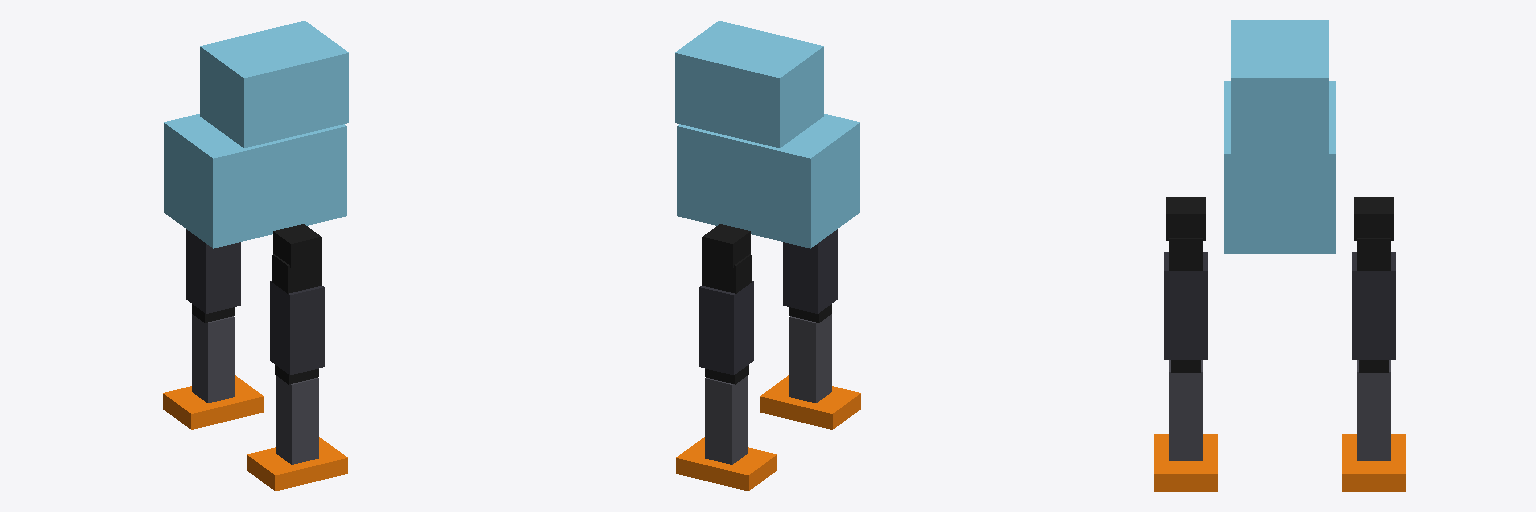
robot.urdf — microduck_minimal:
<?xml version="1.0"?>
<robot name="microduck_minimal">

  <!-- ==================== MATERIALS ==================== -->
  <material name="sky_blue">
    <color rgba="0.55 0.82 0.92 1.0"/>
  </material>
  <material name="dark_gray">
    <color rgba="0.25 0.25 0.28 1.0"/>
  </material>
  <material name="medium_gray">
    <color rgba="0.35 0.35 0.38 1.0"/>
  </material>
  <material name="black_servo">
    <color rgba="0.15 0.15 0.15 1.0"/>
  </material>
  <material name="orange">
    <color rgba="1.0 0.55 0.1 1.0"/>
  </material>
  <material name="yellow">
    <color rgba="0.95 0.75 0.1 1.0"/>
  </material>

  <!-- ==================== BASE LINK: TORSO ==================== -->
  <link name="torso">
    <inertial>
      <origin xyz="0 0 0" rpy="0 0 0"/>
      <!-- 100g: battery + board + shell. Box inertia approx -->
      <mass value="0.100"/>
      <inertia ixx="0.000150" ixy="0" ixz="0" iyy="0.000250" iyz="0" izz="0.000200"/>
    </inertial>
    <visual>
      <origin xyz="0 0 0" rpy="0 0 0"/>
      <geometry>
        <box size="0.070 0.045 0.045"/>
      </geometry>
      <material name="sky_blue"/>
    </visual>
    <collision>
      <origin xyz="0 0 0" rpy="0 0 0"/>
      <geometry>
        <box size="0.070 0.045 0.045"/>
      </geometry>
    </collision>
  </link>

  <!-- ==================== HEAD (fixed to torso) ==================== -->
  <link name="head">
    <inertial>
      <origin xyz="0 0 0" rpy="0 0 0"/>
      <mass value="0.030"/>
      <inertia ixx="0.000030" ixy="0" ixz="0" iyy="0.000050" iyz="0" izz="0.000045"/>
    </inertial>
    <visual>
      <origin xyz="0 0 0" rpy="0 0 0"/>
      <geometry>
        <box size="0.055 0.040 0.035"/>
      </geometry>
      <material name="sky_blue"/>
    </visual>
    <collision>
      <origin xyz="0 0 0" rpy="0 0 0"/>
      <geometry>
        <box size="0.055 0.040 0.035"/>
      </geometry>
    </collision>
  </link>

  <joint name="head_joint" type="fixed">
    <parent link="torso"/>
    <child link="head"/>
    <origin xyz="0.010 0 0.040" rpy="0 0 0"/>
  </joint>

  <!-- ==================== LEFT LEG ==================== -->

  <!-- Left Hip Roll link (connects torso to hip pitch) -->
  <link name="l_hip_roll_link">
    <inertial>
      <origin xyz="0 0 0" rpy="0 0 0"/>
      <mass value="0.055"/>
      <inertia ixx="0.000010" ixy="0" ixz="0" iyy="0.000010" iyz="0" izz="0.000015"/>
    </inertial>
    <visual>
      <origin xyz="0 0 0" rpy="0 0 0"/>
      <geometry>
        <box size="0.016 0.016 0.012"/>
      </geometry>
      <material name="black_servo"/>
    </visual>
    <collision>
      <origin xyz="0 0 0" rpy="0 0 0"/>
      <geometry>
        <box size="0.016 0.016 0.012"/>
      </geometry>
    </collision>
  </link>

  <!-- LEFT HIP ROLL JOINT: X-axis (lateral balance) -->
  <joint name="l_hip_roll" type="revolute">
    <parent link="torso"/>
    <child link="l_hip_roll_link"/>
    <origin xyz="0 0.038 -0.023" rpy="0 0 0"/>
    <axis xyz="1 0 0"/>
    <limit lower="-0.52" upper="0.52" effort="1.2" velocity="6.0"/>
    <!-- ±30°, 1.2 Nm torque (metal servo) -->
    <dynamics damping="0.05" friction="0.02"/>
  </joint>

  <!-- Left Hip Pitch link -->
  <link name="l_hip_pitch_link">
    <inertial>
      <origin xyz="0 0 0" rpy="0 0 0"/>
      <mass value="0.055"/>
      <inertia ixx="0.000010" ixy="0" ixz="0" iyy="0.000012" iyz="0" izz="0.000015"/>
    </inertial>
    <visual>
      <origin xyz="0 0 0" rpy="0 0 0"/>
      <geometry>
        <box size="0.018 0.014 0.014"/>
      </geometry>
      <material name="black_servo"/>
    </visual>
    <collision>
      <origin xyz="0 0 0" rpy="0 0 0"/>
      <geometry>
        <box size="0.018 0.014 0.014"/>
      </geometry>
    </collision>
  </link>

  <!-- LEFT HIP PITCH JOINT: Y-axis (forward/back swing) -->
  <joint name="l_hip_pitch" type="revolute">
    <parent link="l_hip_roll_link"/>
    <child link="l_hip_pitch_link"/>
    <origin xyz="0 0 -0.012" rpy="0 0 0"/>
    <axis xyz="0 1 0"/>
    <limit lower="-1.05" upper="1.05" effort="1.2" velocity="6.0"/>
    <!-- ±60° -->
    <dynamics damping="0.05" friction="0.02"/>
  </joint>

  <!-- Left Thigh link -->
  <link name="l_thigh">
    <inertial>
      <origin xyz="0 0 -0.020" rpy="0 0 0"/>
      <mass value="0.015"/>
      <inertia ixx="0.000005" ixy="0" ixz="0" iyy="0.000005" iyz="0" izz="0.000003"/>
    </inertial>
    <visual>
      <origin xyz="0 0 -0.020" rpy="0 0 0"/>
      <geometry>
        <box size="0.018 0.018 0.040"/>
      </geometry>
      <material name="dark_gray"/>
    </visual>
    <collision>
      <origin xyz="0 0 -0.020" rpy="0 0 0"/>
      <geometry>
        <box size="0.018 0.018 0.040"/>
      </geometry>
    </collision>
  </link>

  <!-- Thigh is rigidly attached to hip pitch servo output -->
  <joint name="l_thigh_joint" type="fixed">
    <parent link="l_hip_pitch_link"/>
    <child link="l_thigh"/>
    <origin xyz="0 0 -0.007" rpy="0 0 0"/>
  </joint>

  <!-- Left Knee link -->
  <link name="l_knee_link">
    <inertial>
      <origin xyz="0 0 0" rpy="0 0 0"/>
      <mass value="0.025"/>
      <inertia ixx="0.000004" ixy="0" ixz="0" iyy="0.000004" iyz="0" izz="0.000006"/>
    </inertial>
    <visual>
      <origin xyz="0 0 0" rpy="0 0 0"/>
      <geometry>
        <box size="0.016 0.012 0.012"/>
      </geometry>
      <material name="black_servo"/>
    </visual>
    <collision>
      <origin xyz="0 0 0" rpy="0 0 0"/>
      <geometry>
        <box size="0.016 0.012 0.012"/>
      </geometry>
    </collision>
  </link>

  <!-- LEFT KNEE JOINT: Y-axis -->
  <joint name="l_knee" type="revolute">
    <parent link="l_thigh"/>
    <child link="l_knee_link"/>
    <origin xyz="0 0 -0.040" rpy="0 0 0"/>
    <axis xyz="0 1 0"/>
    <limit lower="-1.57" upper="0.0" effort="0.8" velocity="8.0"/>
    <!-- 0 to -90°, smaller servo -->
    <dynamics damping="0.03" friction="0.01"/>
  </joint>

  <!-- Left Shin link -->
  <link name="l_shin">
    <inertial>
      <origin xyz="0 0 -0.020" rpy="0 0 0"/>
      <mass value="0.015"/>
      <inertia ixx="0.000004" ixy="0" ixz="0" iyy="0.000004" iyz="0" izz="0.000002"/>
    </inertial>
    <visual>
      <origin xyz="0 0 -0.020" rpy="0 0 0"/>
      <geometry>
        <box size="0.014 0.014 0.040"/>
      </geometry>
      <material name="medium_gray"/>
    </visual>
    <collision>
      <origin xyz="0 0 -0.020" rpy="0 0 0"/>
      <geometry>
        <box size="0.014 0.014 0.040"/>
      </geometry>
    </collision>
  </link>

  <joint name="l_shin_joint" type="fixed">
    <parent link="l_knee_link"/>
    <child link="l_shin"/>
    <origin xyz="0 0 -0.006" rpy="0 0 0"/>
  </joint>

  <!-- Left Foot link -->
  <link name="l_foot">
    <inertial>
      <origin xyz="0 0 -0.004" rpy="0 0 0"/>
      <mass value="0.020"/>
      <inertia ixx="0.000008" ixy="0" ixz="0" iyy="0.000015" iyz="0" izz="0.000020"/>
    </inertial>
    <visual>
      <origin xyz="0 0 -0.004" rpy="0 0 0"/>
      <geometry>
        <box size="0.038 0.026 0.008"/>
      </geometry>
      <material name="orange"/>
    </visual>
    <collision>
      <origin xyz="0 0 -0.004" rpy="0 0 0"/>
      <geometry>
        <box size="0.038 0.026 0.008"/>
      </geometry>
    </collision>
    <contact_coefficients mu="0.8" kp="100000" kd="100"/>
  </link>

  <joint name="l_foot_joint" type="fixed">
    <parent link="l_shin"/>
    <child link="l_foot"/>
    <origin xyz="0 0 -0.040" rpy="0 0 0"/>
  </joint>

  <!-- ==================== RIGHT LEG ==================== -->

  <!-- Right Hip Roll link -->
  <link name="r_hip_roll_link">
    <inertial>
      <origin xyz="0 0 0" rpy="0 0 0"/>
      <mass value="0.055"/>
      <inertia ixx="0.000010" ixy="0" ixz="0" iyy="0.000010" iyz="0" izz="0.000015"/>
    </inertial>
    <visual>
      <origin xyz="0 0 0" rpy="0 0 0"/>
      <geometry>
        <box size="0.016 0.016 0.012"/>
      </geometry>
      <material name="black_servo"/>
    </visual>
    <collision>
      <origin xyz="0 0 0" rpy="0 0 0"/>
      <geometry>
        <box size="0.016 0.016 0.012"/>
      </geometry>
    </collision>
  </link>

  <!-- RIGHT HIP ROLL JOINT -->
  <joint name="r_hip_roll" type="revolute">
    <parent link="torso"/>
    <child link="r_hip_roll_link"/>
    <origin xyz="0 -0.038 -0.023" rpy="0 0 0"/>
    <axis xyz="1 0 0"/>
    <limit lower="-0.52" upper="0.52" effort="1.2" velocity="6.0"/>
    <dynamics damping="0.05" friction="0.02"/>
  </joint>

  <!-- Right Hip Pitch link -->
  <link name="r_hip_pitch_link">
    <inertial>
      <origin xyz="0 0 0" rpy="0 0 0"/>
      <mass value="0.055"/>
      <inertia ixx="0.000010" ixy="0" ixz="0" iyy="0.000012" iyz="0" izz="0.000015"/>
    </inertial>
    <visual>
      <origin xyz="0 0 0" rpy="0 0 0"/>
      <geometry>
        <box size="0.018 0.014 0.014"/>
      </geometry>
      <material name="black_servo"/>
    </visual>
    <collision>
      <origin xyz="0 0 0" rpy="0 0 0"/>
      <geometry>
        <box size="0.018 0.014 0.014"/>
      </geometry>
    </collision>
  </link>

  <!-- RIGHT HIP PITCH JOINT -->
  <joint name="r_hip_pitch" type="revolute">
    <parent link="r_hip_roll_link"/>
    <child link="r_hip_pitch_link"/>
    <origin xyz="0 0 -0.012" rpy="0 0 0"/>
    <axis xyz="0 1 0"/>
    <limit lower="-1.05" upper="1.05" effort="1.2" velocity="6.0"/>
    <dynamics damping="0.05" friction="0.02"/>
  </joint>

  <!-- Right Thigh link -->
  <link name="r_thigh">
    <inertial>
      <origin xyz="0 0 -0.020" rpy="0 0 0"/>
      <mass value="0.015"/>
      <inertia ixx="0.000005" ixy="0" ixz="0" iyy="0.000005" iyz="0" izz="0.000003"/>
    </inertial>
    <visual>
      <origin xyz="0 0 -0.020" rpy="0 0 0"/>
      <geometry>
        <box size="0.018 0.018 0.040"/>
      </geometry>
      <material name="dark_gray"/>
    </visual>
    <collision>
      <origin xyz="0 0 -0.020" rpy="0 0 0"/>
      <geometry>
        <box size="0.018 0.018 0.040"/>
      </geometry>
    </collision>
  </link>

  <joint name="r_thigh_joint" type="fixed">
    <parent link="r_hip_pitch_link"/>
    <child link="r_thigh"/>
    <origin xyz="0 0 -0.007" rpy="0 0 0"/>
  </joint>

  <!-- Right Knee link -->
  <link name="r_knee_link">
    <inertial>
      <origin xyz="0 0 0" rpy="0 0 0"/>
      <mass value="0.025"/>
      <inertia ixx="0.000004" ixy="0" ixz="0" iyy="0.000004" iyz="0" izz="0.000006"/>
    </inertial>
    <visual>
      <origin xyz="0 0 0" rpy="0 0 0"/>
      <geometry>
        <box size="0.016 0.012 0.012"/>
      </geometry>
      <material name="black_servo"/>
    </visual>
    <collision>
      <origin xyz="0 0 0" rpy="0 0 0"/>
      <geometry>
        <box size="0.016 0.012 0.012"/>
      </geometry>
    </collision>
  </link>

  <!-- RIGHT KNEE JOINT -->
  <joint name="r_knee" type="revolute">
    <parent link="r_thigh"/>
    <child link="r_knee_link"/>
    <origin xyz="0 0 -0.040" rpy="0 0 0"/>
    <axis xyz="0 1 0"/>
    <limit lower="-1.57" upper="0.0" effort="0.8" velocity="8.0"/>
    <dynamics damping="0.03" friction="0.01"/>
  </joint>

  <!-- Right Shin link -->
  <link name="r_shin">
    <inertial>
      <origin xyz="0 0 -0.020" rpy="0 0 0"/>
      <mass value="0.015"/>
      <inertia ixx="0.000004" ixy="0" ixz="0" iyy="0.000004" iyz="0" izz="0.000002"/>
    </inertial>
    <visual>
      <origin xyz="0 0 -0.020" rpy="0 0 0"/>
      <geometry>
        <box size="0.014 0.014 0.040"/>
      </geometry>
      <material name="medium_gray"/>
    </visual>
    <collision>
      <origin xyz="0 0 -0.020" rpy="0 0 0"/>
      <geometry>
        <box size="0.014 0.014 0.040"/>
      </geometry>
    </collision>
  </link>

  <joint name="r_shin_joint" type="fixed">
    <parent link="r_knee_link"/>
    <child link="r_shin"/>
    <origin xyz="0 0 -0.006" rpy="0 0 0"/>
  </joint>

  <!-- Right Foot link -->
  <link name="r_foot">
    <inertial>
      <origin xyz="0 0 -0.004" rpy="0 0 0"/>
      <mass value="0.020"/>
      <inertia ixx="0.000008" ixy="0" ixz="0" iyy="0.000015" iyz="0" izz="0.000020"/>
    </inertial>
    <visual>
      <origin xyz="0 0 -0.004" rpy="0 0 0"/>
      <geometry>
        <box size="0.038 0.026 0.008"/>
      </geometry>
      <material name="orange"/>
    </visual>
    <collision>
      <origin xyz="0 0 -0.004" rpy="0 0 0"/>
      <geometry>
        <box size="0.038 0.026 0.008"/>
      </geometry>
    </collision>
    <contact_coefficients mu="0.8" kp="100000" kd="100"/>
  </link>

  <joint name="r_foot_joint" type="fixed">
    <parent link="r_shin"/>
    <child link="r_foot"/>
    <origin xyz="0 0 -0.040" rpy="0 0 0"/>
  </joint>

</robot>

--- Render facts (derived) ---
The picture shows the robot from 3 angles, left to right: view 1: azimuth 30°, elevation 25°; view 2: azimuth 150°, elevation 25°; view 3: azimuth 270°, elevation 25°; orthographic projection.
Robot: microduck_minimal — 14 links, 13 joints (6 revolute, 7 fixed); root link torso; default pose: every joint at zero.
Links seen in each view (by area): view 1: torso, head, r_thigh, l_thigh, l_shin, r_shin, l_foot, r_foot, r_hip_roll_link, r_hip_pitch_link; view 2: torso, head, l_thigh, r_thigh, l_shin, r_shin, r_foot, l_foot, l_hip_roll_link, l_hip_pitch_link; view 3: head, torso, l_thigh, r_thigh, l_shin, r_shin, l_foot, r_foot, l_hip_roll_link, r_hip_roll_link, l_hip_pitch_link, r_hip_pitch_link.
Boxes of the visible links, x1,y1,x2,y2 form: torso: (164, 114, 346, 248); head: (200, 21, 348, 147); r_thigh: (270, 281, 324, 374); l_thigh: (186, 229, 240, 313); l_shin: (192, 314, 234, 402); r_shin: (276, 376, 318, 464); l_foot: (163, 375, 263, 429); r_foot: (247, 437, 347, 490); r_hip_roll_link: (273, 224, 321, 267); r_hip_pitch_link: (272, 254, 321, 293); torso: (677, 114, 859, 248); head: (675, 21, 823, 147); l_thigh: (699, 281, 753, 374); r_thigh: (783, 229, 837, 313); l_shin: (705, 376, 747, 464); r_shin: (789, 314, 831, 402); r_foot: (760, 375, 860, 429); l_foot: (676, 437, 776, 490); l_hip_roll_link: (702, 224, 750, 267); l_hip_pitch_link: (702, 254, 751, 293); head: (1231, 20, 1328, 155); torso: (1224, 81, 1335, 253); l_thigh: (1352, 252, 1395, 359); r_thigh: (1164, 252, 1207, 359); l_shin: (1357, 360, 1390, 460); r_shin: (1169, 360, 1202, 460); l_foot: (1342, 434, 1405, 491); r_foot: (1154, 434, 1217, 491); l_hip_roll_link: (1354, 197, 1393, 240); r_hip_roll_link: (1166, 197, 1205, 240); l_hip_pitch_link: (1357, 238, 1390, 270); r_hip_pitch_link: (1169, 238, 1202, 270).
Size in the robot's own frame: 0.0725 by 0.102 by 0.1935 metres.
Geometry: primitives only (box / cylinder / sphere), no mesh files.
